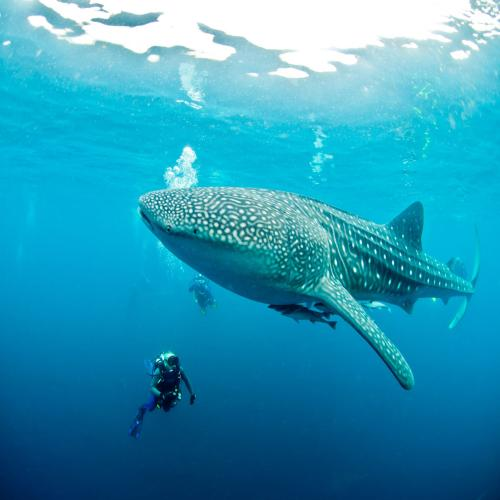shark-endangered: (138, 183, 484, 391)
